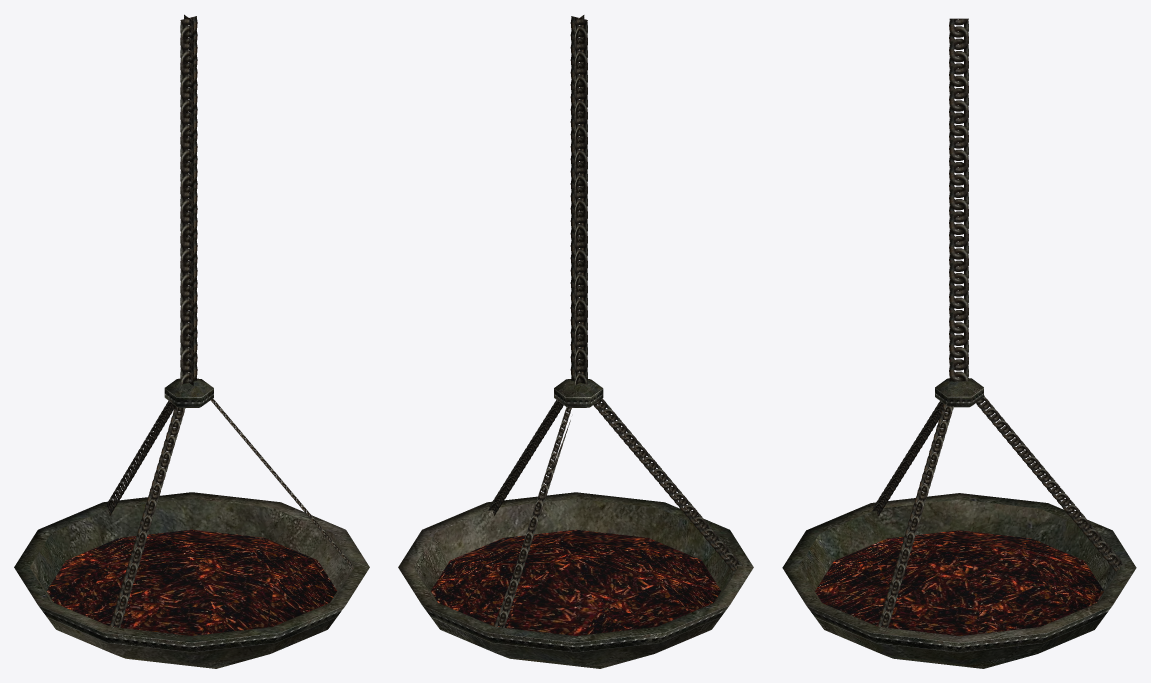
The model's file is KM_VOB_HEARTH_01.glb.
3 views of the same model, side by side, from view 1: azimuth 30°, elevation 25°; view 2: azimuth 150°, elevation 25°; view 3: azimuth 270°, elevation 25° (orthographic).
Visible parts, largest first — view 1: Mesh; view 2: Mesh; view 3: Mesh.
Boxes of the visible parts, x1,y1,x2,y2 form: Mesh: (14, 14, 369, 668); Mesh: (398, 15, 753, 668); Mesh: (782, 18, 1136, 668).
Size of the model in its own units: 1.56 by 3.05 by 1.56.
3 materials, 3 textured.
